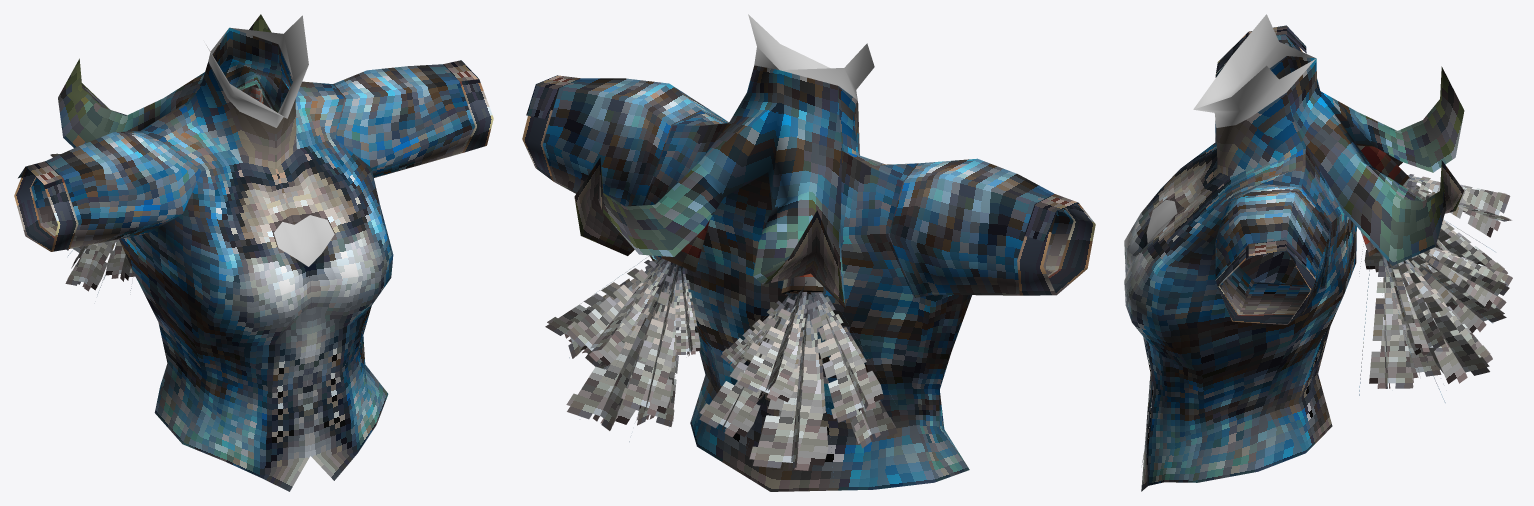
The model's file is f_plate169.obj.
3 views of the same model, side by side, from view 1: azimuth 30°, elevation 25°; view 2: azimuth 150°, elevation 25°; view 3: azimuth 270°, elevation 25° (orthographic). The views are drawn at different scales.
Visible parts, largest first — view 1: mesh00, mesh01; view 2: mesh00, mesh01; view 3: mesh00, mesh01.
Part boxes in pixels (bbox=[...]): mesh00: bbox=[14, 14, 493, 491]; mesh01: bbox=[206, 15, 334, 266]; mesh00: bbox=[522, 65, 1095, 491]; mesh01: bbox=[748, 14, 874, 103]; mesh00: bbox=[1124, 25, 1512, 491]; mesh01: bbox=[1146, 14, 1316, 244].
Size of the model in its own units: 62.64 by 57.12 by 46.45.
